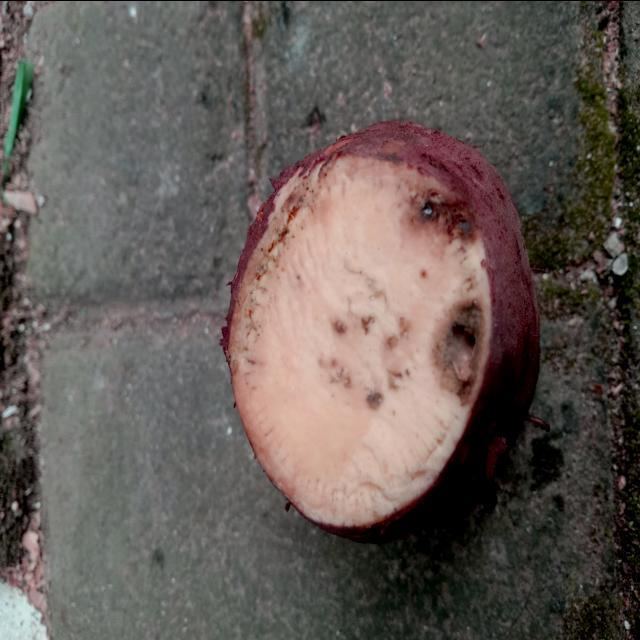Sick Sweet Potato_Tuber Rot: (228, 150, 490, 527)
